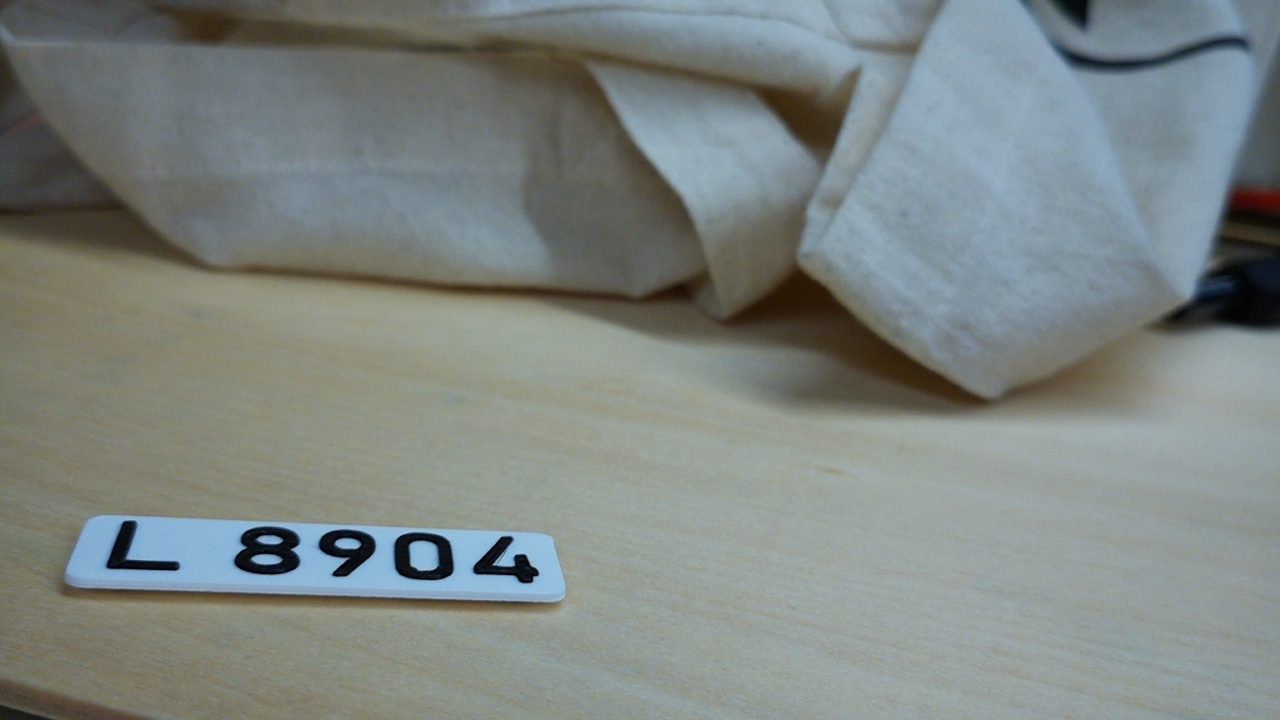license_plate: (58, 510, 570, 609)
